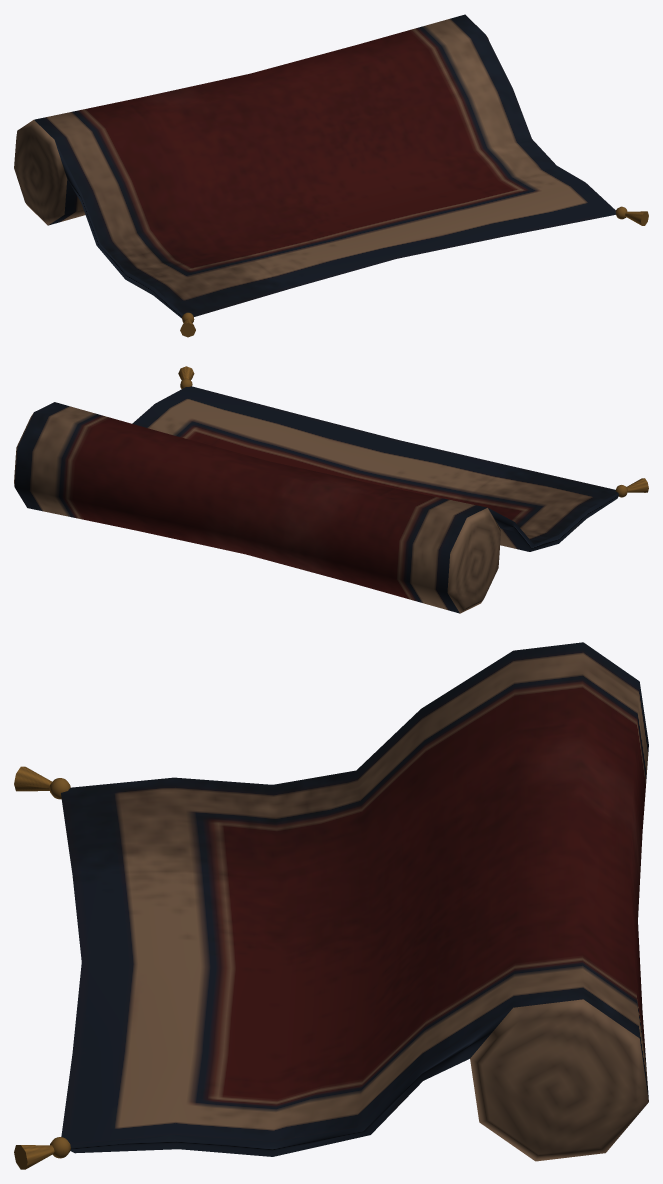
File: FloorRug_1.fbx
3 renders of one model, top to bottom at view 1: azimuth 30°, elevation 25°; view 2: azimuth 150°, elevation 25°; view 3: azimuth 270°, elevation 25°, orthographic. The views are drawn at different scales.
Visible parts, largest first — view 1: FloorRug_1; view 2: FloorRug_1; view 3: FloorRug_1.
Part boxes in pixels (x1,y1,x2,y2): FloorRug_1: [14, 14, 648, 337]; FloorRug_1: [14, 366, 648, 613]; FloorRug_1: [14, 642, 648, 1169].
Size of the model in its own units: 4.66 by 0.9244 by 3.22.
